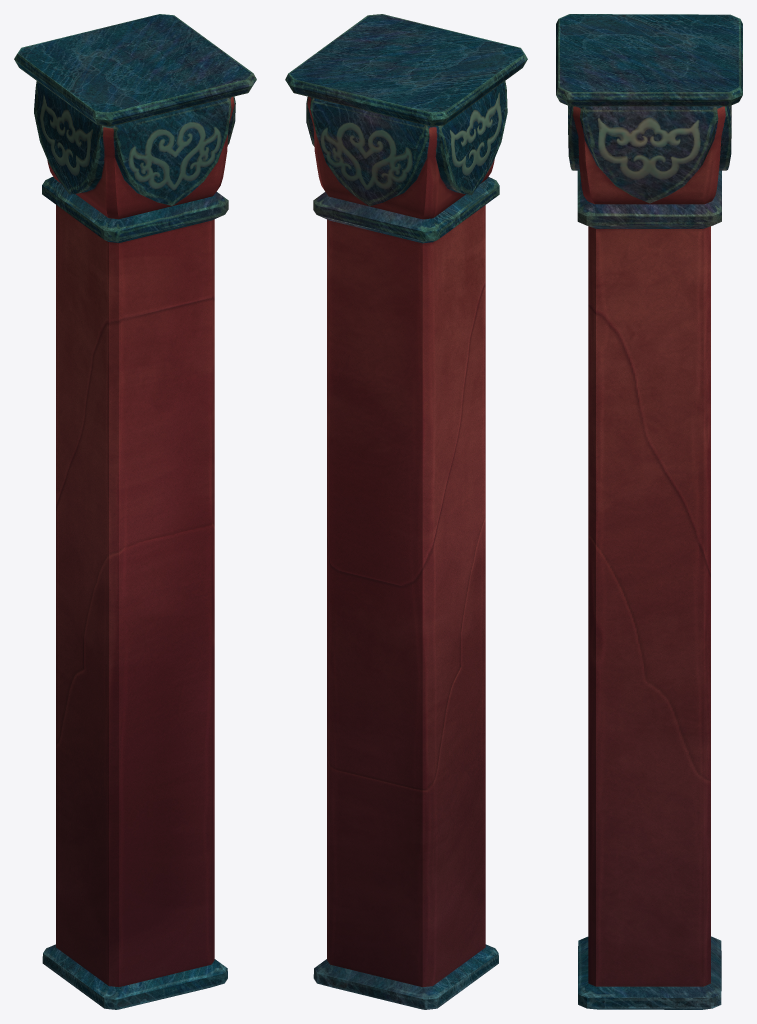
File: SM_Column3.glb
3 renders of one model, left to right at view 1: azimuth 30°, elevation 25°; view 2: azimuth 150°, elevation 25°; view 3: azimuth 270°, elevation 25°, orthographic.
Visible parts, largest first — view 1: SM_Column3_LOD0; view 2: SM_Column3_LOD0; view 3: SM_Column3_LOD0.
Part boxes in pixels (box(x1,y1,x2,y2)): SM_Column3_LOD0: box(14, 14, 256, 1009); SM_Column3_LOD0: box(285, 14, 527, 1009); SM_Column3_LOD0: box(556, 14, 742, 1009).
Size of the model in its own units: 0.3679 by 1.99 by 0.3629.
Materials: 1 (1 with a texture image).
